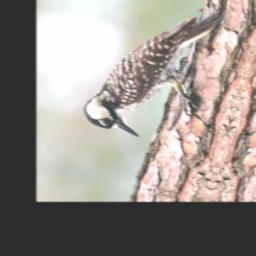Woodpecker: (78, 0, 233, 149)
